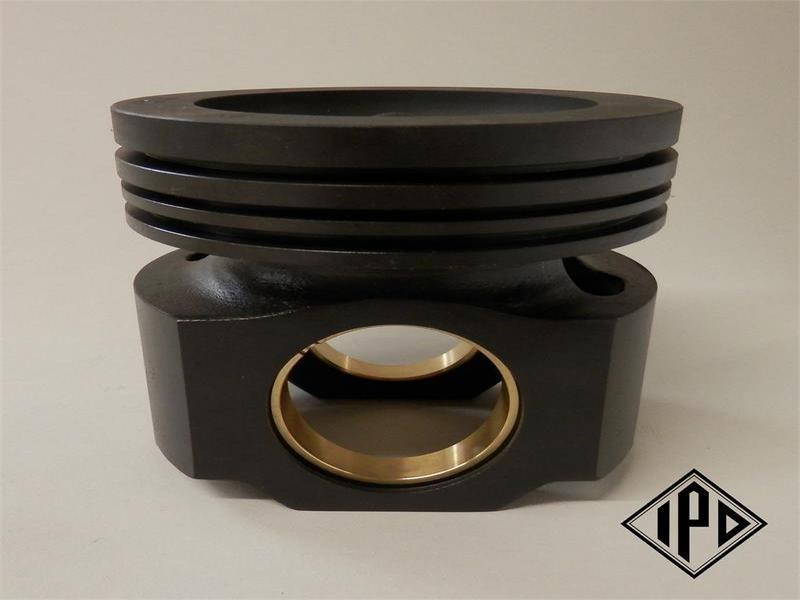piston: (92, 69, 675, 518)
